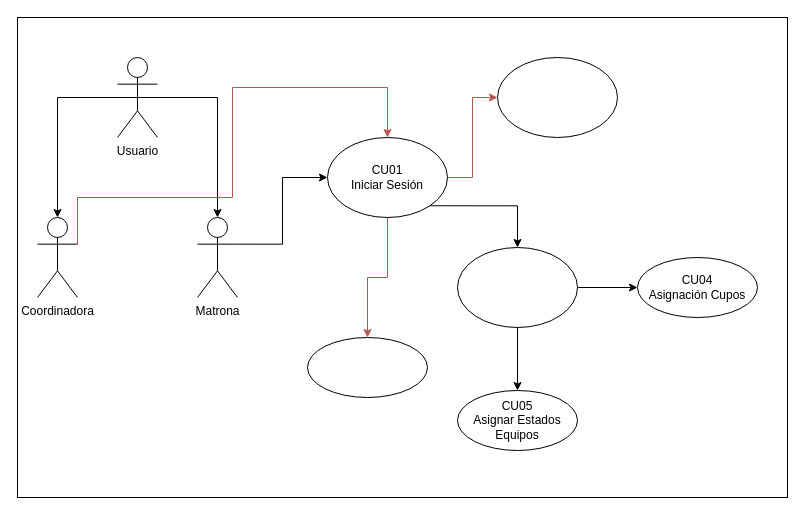
Some shapes in this 805 by 515 pixel diagram are drawn without their labels. The shapes that lost their labels are listed below. From the top down, each one's centre as x and y in pixels, then its label:
At point (557, 97): "CU02 Ingresar Equipos".
At point (517, 287): "CU03 Buscar Equipos".
At point (367, 367): "CU06 Generar Informe".
